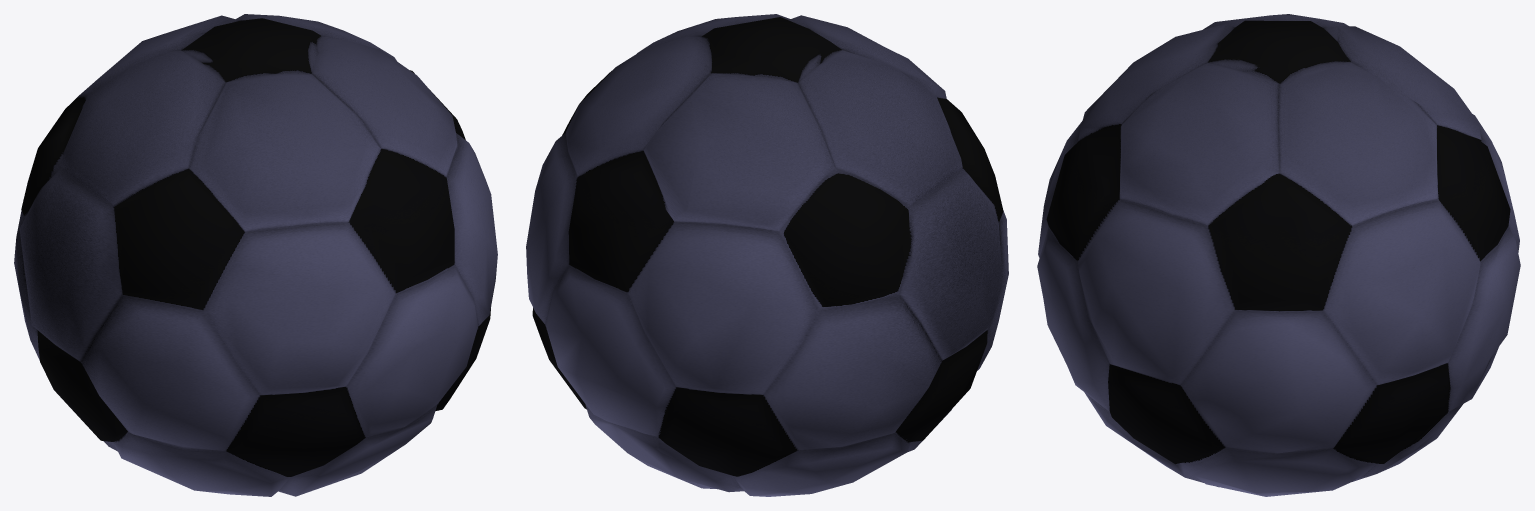
Rendered from soccerball.fbx.
The picture shows the model from 3 angles, left to right: view 1: azimuth 30°, elevation 25°; view 2: azimuth 150°, elevation 25°; view 3: azimuth 270°, elevation 25°; orthographic projection.
Visible parts, largest first — view 1: SoccerBallLowPoly; view 2: SoccerBallLowPoly; view 3: SoccerBallLowPoly.
Boxes of the visible parts, bbox=[...] form: SoccerBallLowPoly: bbox=[14, 14, 497, 496]; SoccerBallLowPoly: bbox=[526, 14, 1008, 496]; SoccerBallLowPoly: bbox=[1037, 14, 1520, 496].
Bounding box in the file's own units: 2.08 × 2.08 × 2.08.
Materials: 2 (2 with a texture image).
